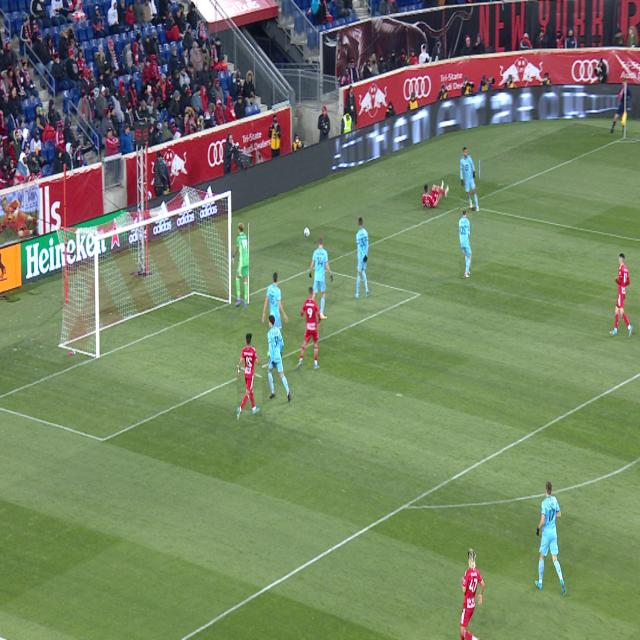goalkeeper: (231, 223, 249, 307)
player: (535, 482, 566, 594), (460, 549, 485, 640), (237, 334, 262, 421), (268, 316, 292, 403), (309, 237, 333, 319), (297, 287, 320, 368), (610, 254, 632, 337), (262, 273, 288, 331), (461, 147, 479, 211), (355, 218, 369, 299), (459, 208, 472, 277)
